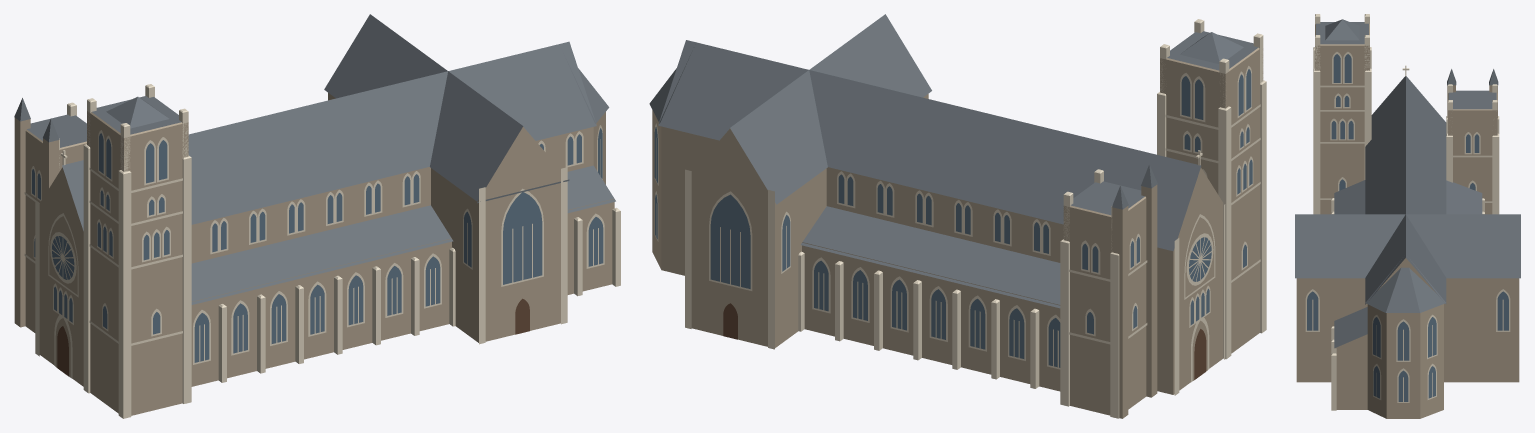
File: bos-cathedral-holy-cross.glb
3 views of the same model, side by side, from view 1: azimuth 30°, elevation 25°; view 2: azimuth 150°, elevation 25°; view 3: azimuth 270°, elevation 25° (orthographic). The views are drawn at different scales.
Parts seen in each view (by area): view 1: Cathedral of the Holy Cross; view 2: Cathedral of the Holy Cross; view 3: Cathedral of the Holy Cross.
Boxes of the visible parts, left/top/right/bottom form: Cathedral of the Holy Cross: left=14, top=14, right=620, bottom=418; Cathedral of the Holy Cross: left=649, top=14, right=1266, bottom=418; Cathedral of the Holy Cross: left=1295, top=14, right=1520, bottom=418.
Bounding box in the file's own units: 95.35 × 51 × 47.3.
